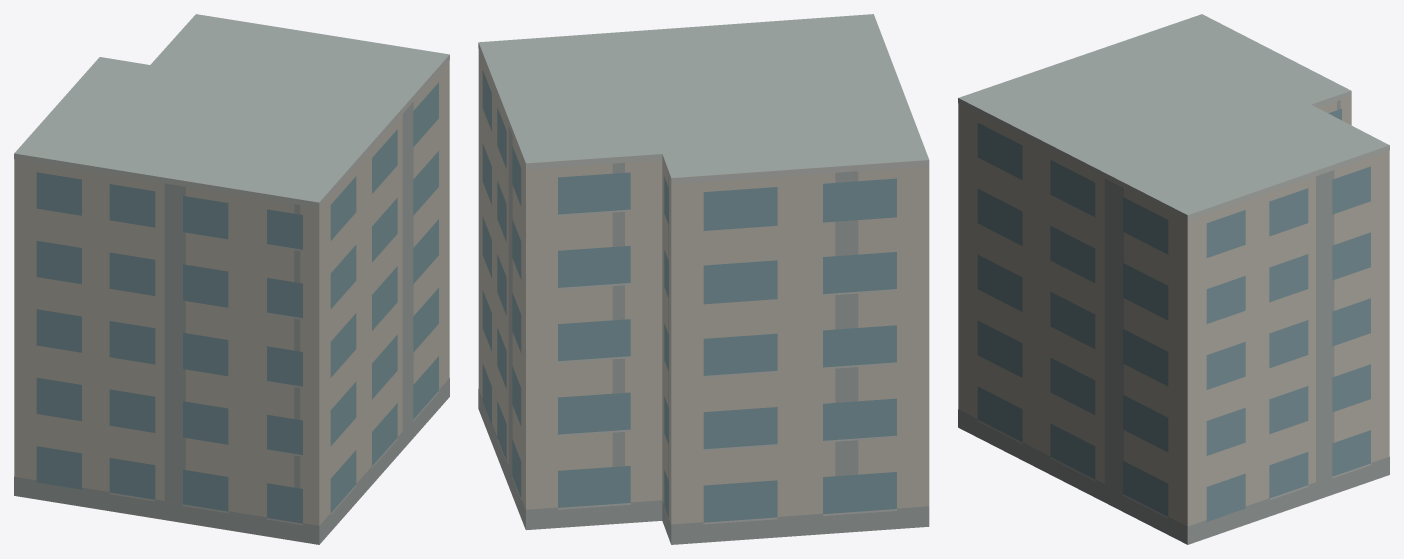
Rendered from survey-upis-33010799.glb.
3 views of the same model, side by side, from view 1: azimuth 30°, elevation 25°; view 2: azimuth 150°, elevation 25°; view 3: azimuth 270°, elevation 25° (orthographic). The views are drawn at different scales.
Visible parts, largest first — view 1: survey-upis-33010799.tmp; view 2: survey-upis-33010799.tmp; view 3: survey-upis-33010799.tmp.
Part boxes in pixels (x1,y1,x2,y2): survey-upis-33010799.tmp: (14, 14, 449, 544); survey-upis-33010799.tmp: (478, 14, 929, 544); survey-upis-33010799.tmp: (958, 14, 1389, 544).
Bounding box in the file's own units: 18.99 × 14.5 × 17.21.
